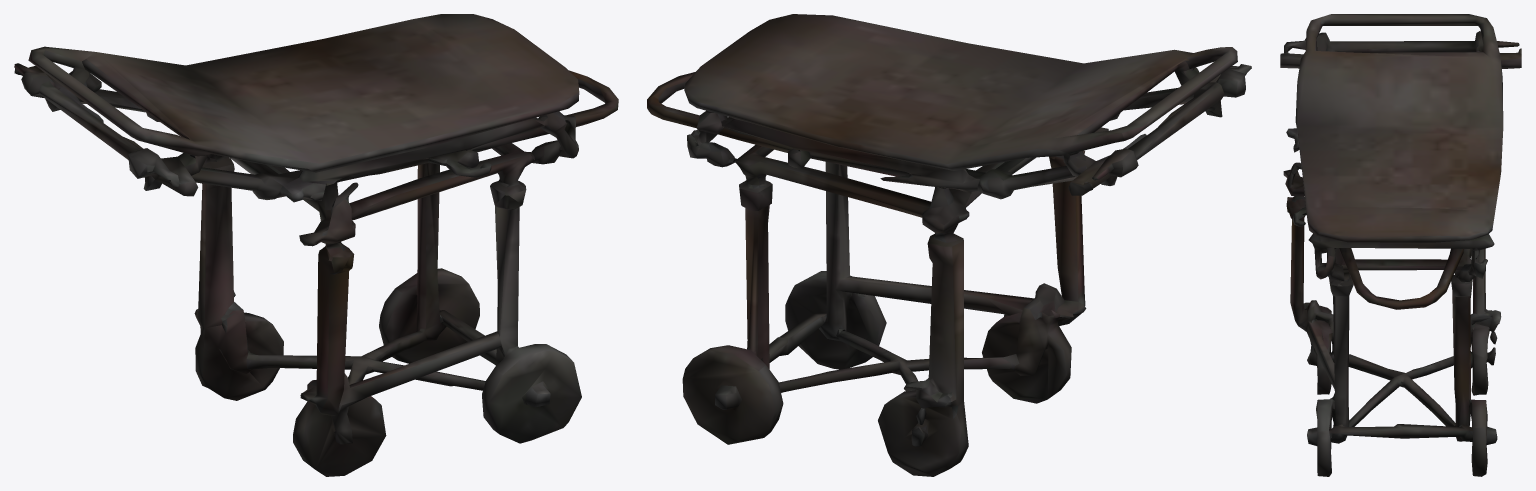
Rendered from chipped-iron-gurney-v001.glb.
The picture shows the model from 3 angles, left to right: view 1: azimuth 30°, elevation 25°; view 2: azimuth 150°, elevation 25°; view 3: azimuth 270°, elevation 25°; orthographic projection. The views are drawn at different scales.
Parts seen in each view (by area): view 1: chipped-iron-gurney; view 2: chipped-iron-gurney; view 3: chipped-iron-gurney.
Part boxes in pixels (bbox=[...]): chipped-iron-gurney: bbox=[14, 14, 618, 476]; chipped-iron-gurney: bbox=[647, 14, 1251, 476]; chipped-iron-gurney: bbox=[1280, 14, 1521, 476].
Size of the model in its own units: 1.17 by 0.8692 by 0.6091.
1 material, 1 textured.
